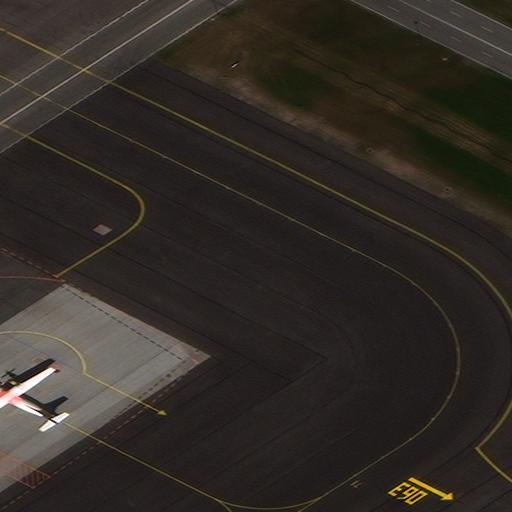Medium Civil Transport: (0, 366, 59, 425)
